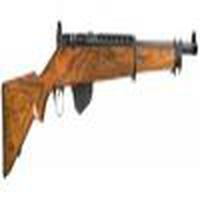gun: (1, 30, 197, 177)
